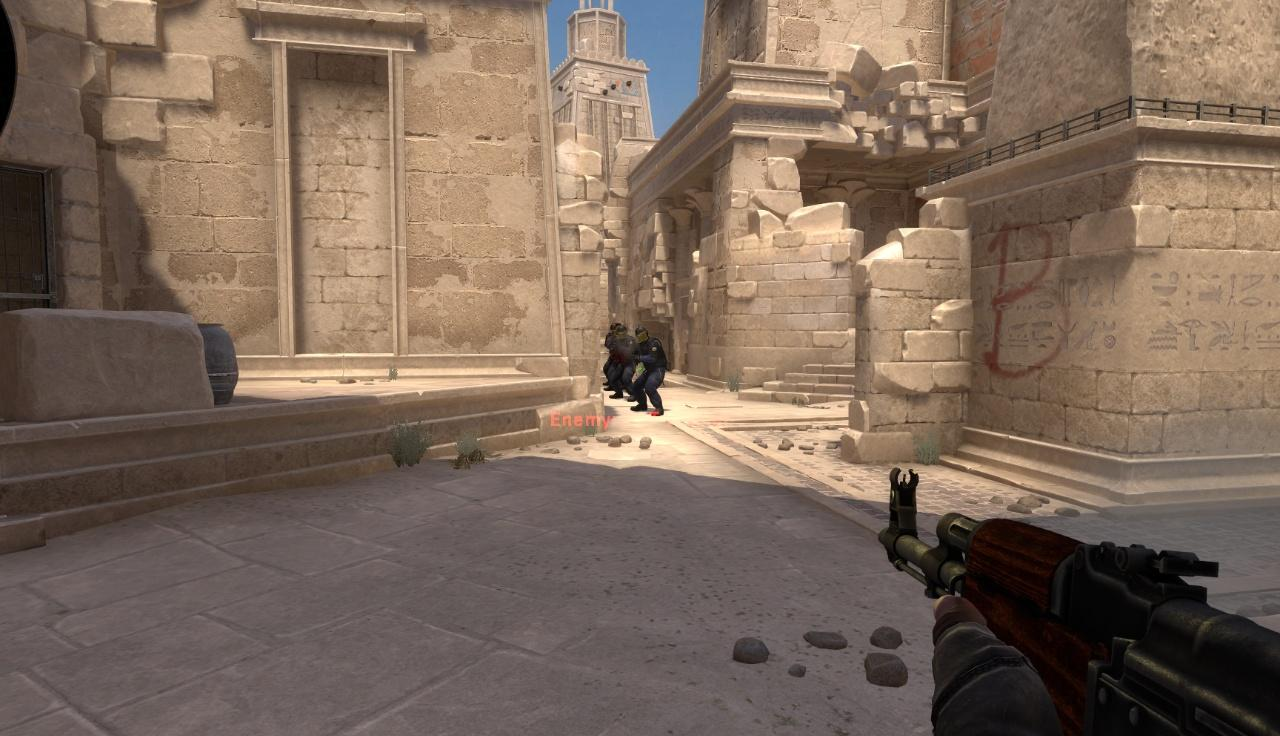ct: (624, 323, 669, 416), (604, 323, 636, 403)
cthead: (634, 325, 649, 342), (615, 325, 628, 340)
rifle: (872, 478, 1280, 733)
